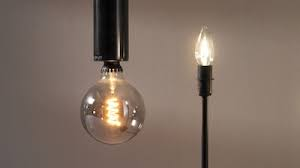bulb: (74, 57, 162, 147), (190, 20, 216, 83)
